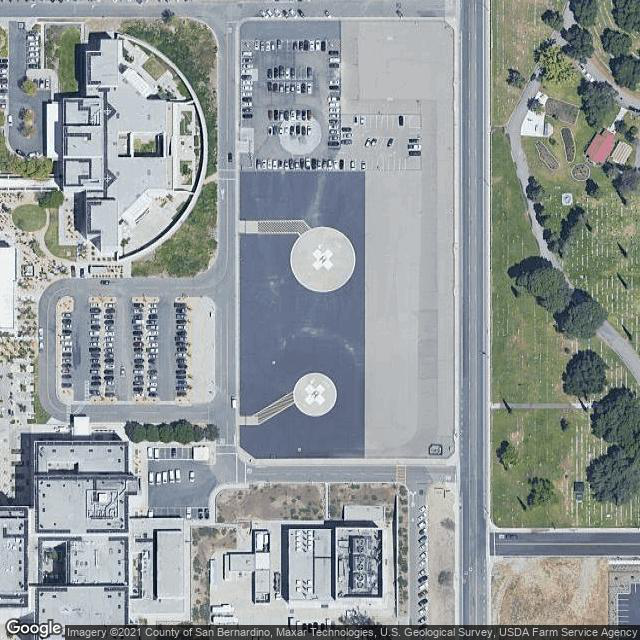Helipad: (298, 378, 332, 410), (308, 245, 339, 276)
